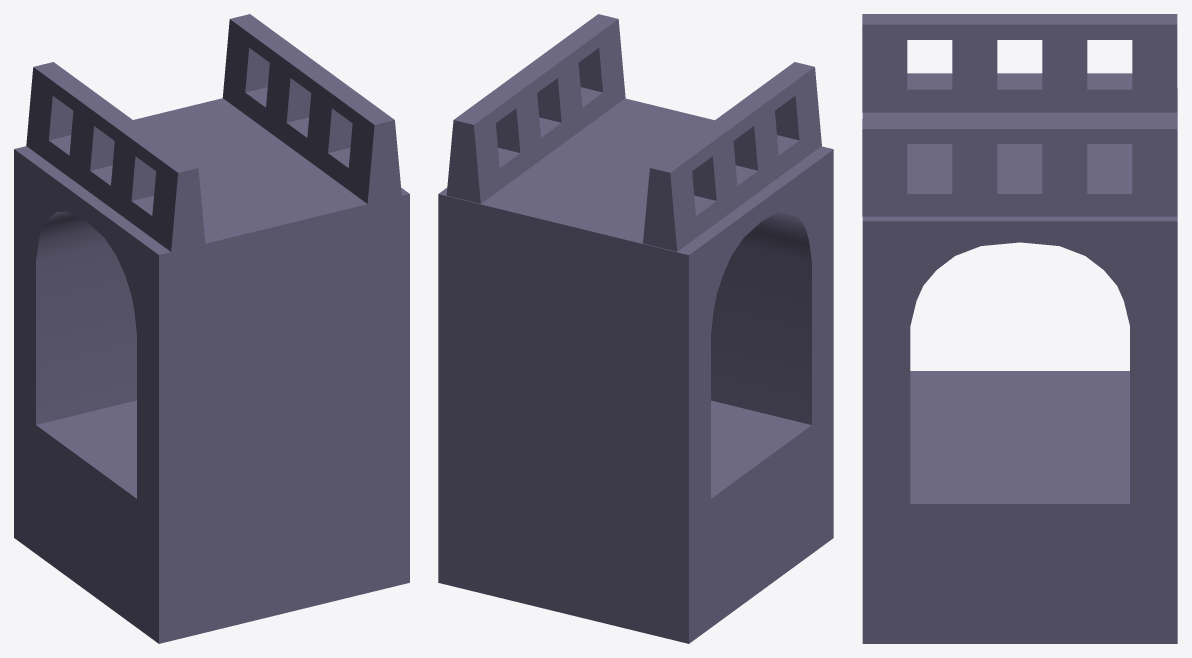
File: b_arch_y.fbx
The picture shows the model from 3 angles, left to right: view 1: azimuth 30°, elevation 25°; view 2: azimuth 150°, elevation 25°; view 3: azimuth 270°, elevation 25°; orthographic projection. The views are drawn at different scales.
Visible parts, largest first — view 1: Cube.035; view 2: Cube.035; view 3: Cube.035.
Boxes of the visible parts, bbox=[...] form: Cube.035: bbox=[14, 14, 409, 643]; Cube.035: bbox=[438, 14, 833, 643]; Cube.035: bbox=[862, 14, 1177, 643].
Size of the model in its own units: 200 by 355 by 200.
